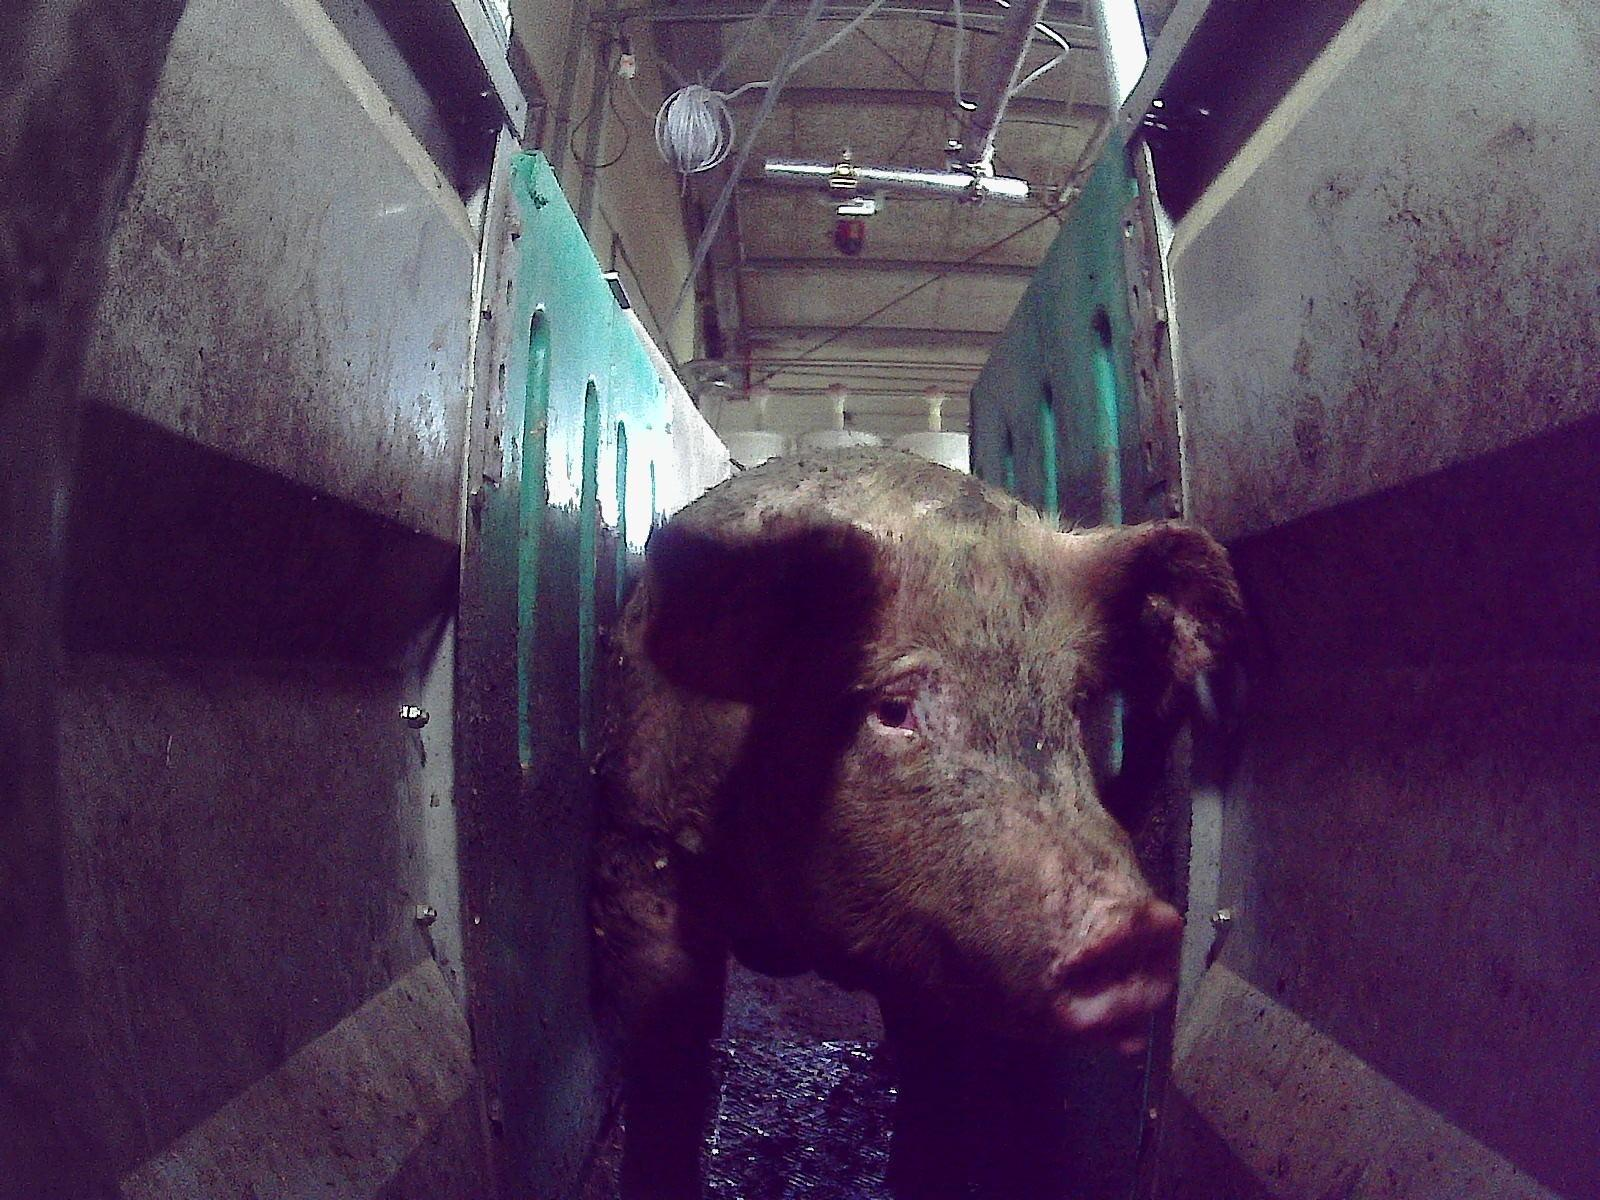Face: (763, 537, 1183, 1060)
